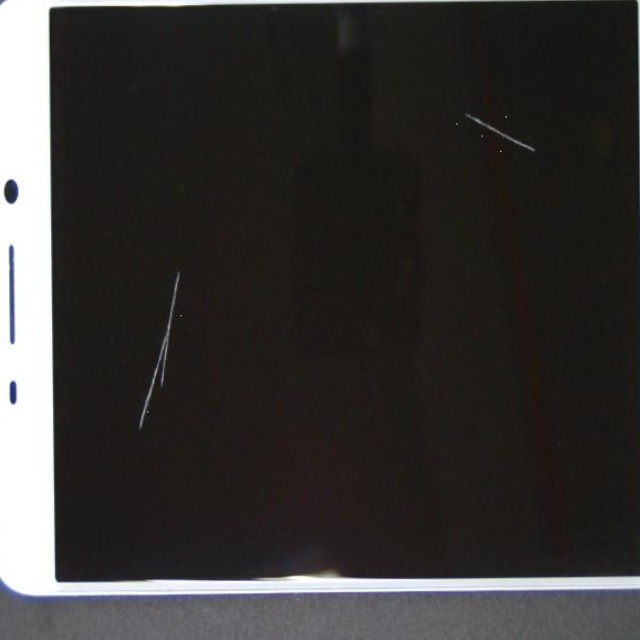scratch: (155, 0, 640, 240), (39, 192, 216, 640)
